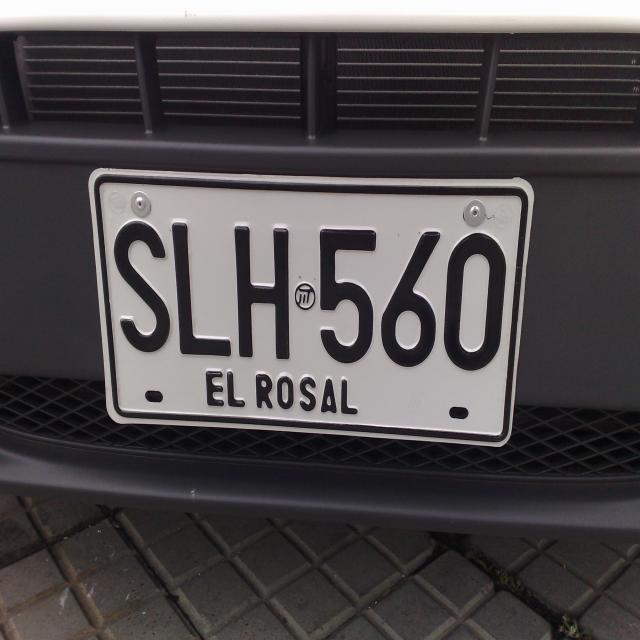placa: (84, 158, 537, 453)
